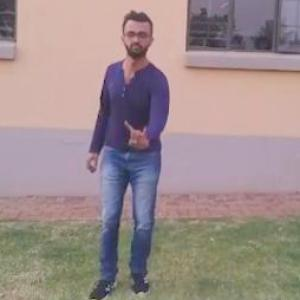takeoff-hand: (124, 114, 155, 152)
